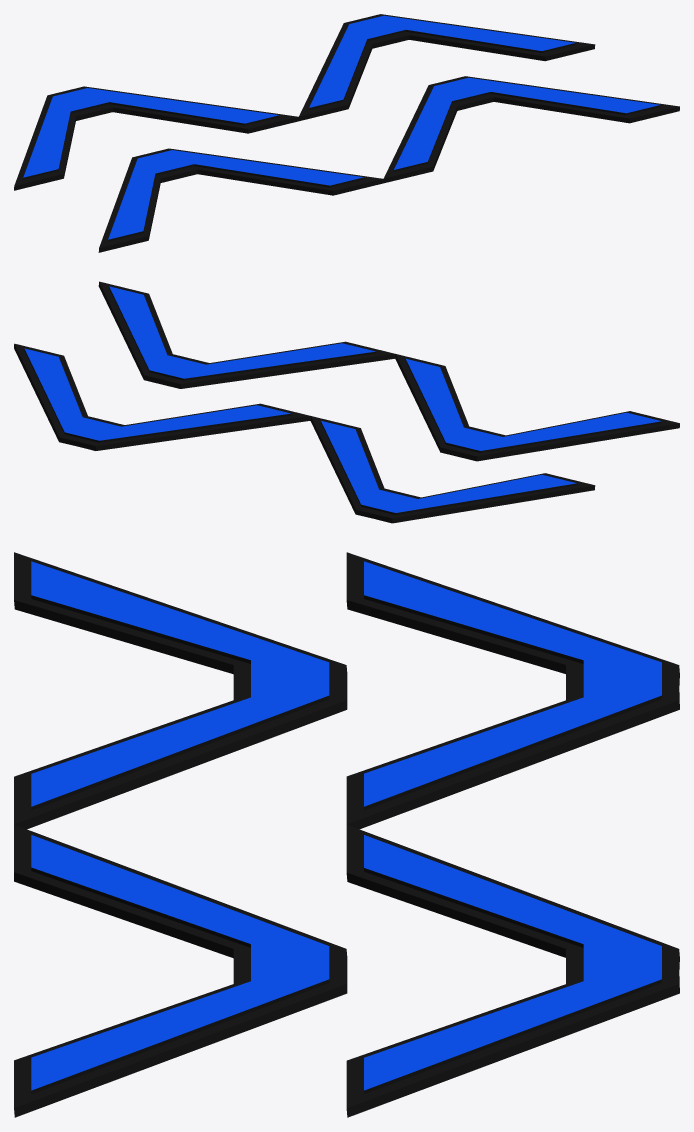
File: booster02.FBX
3 views of the same model, one above another, from view 1: azimuth 30°, elevation 25°; view 2: azimuth 150°, elevation 25°; view 3: azimuth 270°, elevation 25° (orthographic). The views are drawn at different scales.
Parts seen in each view (by area): view 1: Box048; view 2: Box048; view 3: Box048.
Part boxes in pixels (x1,y1,x2,y2): Box048: (14,14,679,252); Box048: (14,281,679,523); Box048: (14,552,679,1117).
Bounding box in the file's own units: 31.63 × 0.35 × 16.01.
